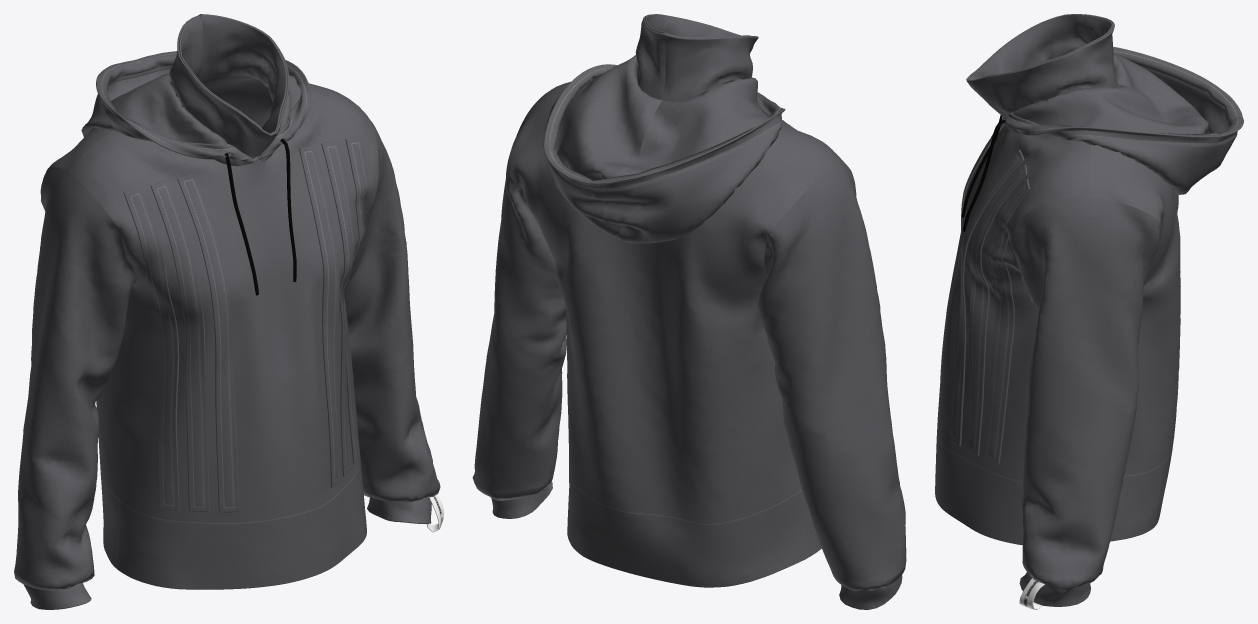
File: hoodie-core-v3.glb
3 renders of one model, left to right at view 1: azimuth 30°, elevation 25°; view 2: azimuth 150°, elevation 25°; view 3: azimuth 270°, elevation 25°, orthographic. The views are drawn at different scales.
Parts seen in each view (by area): view 1: Object_5; view 2: Object_5; view 3: Object_5.
Boxes of the visible parts, x1,y1,x2,y2 form: Object_5: (14,14,443,609); Object_5: (472,14,906,609); Object_5: (935,14,1243,609).
Size of the model in its own units: 0.6715 by 0.8274 by 0.4652.
Materials: 1 (1 with a texture image).
